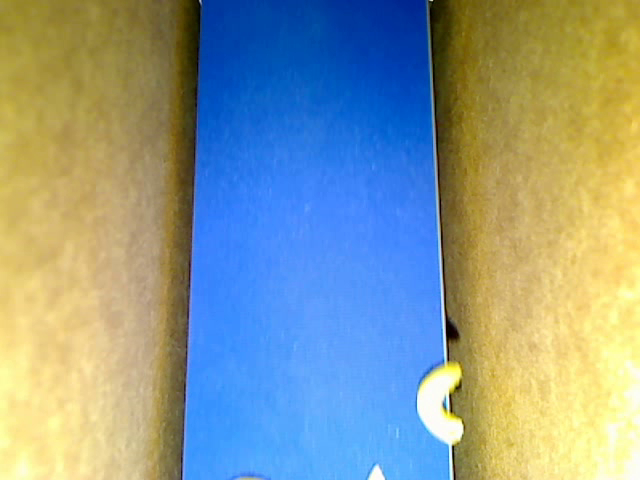elbow: (416, 362, 465, 444)
